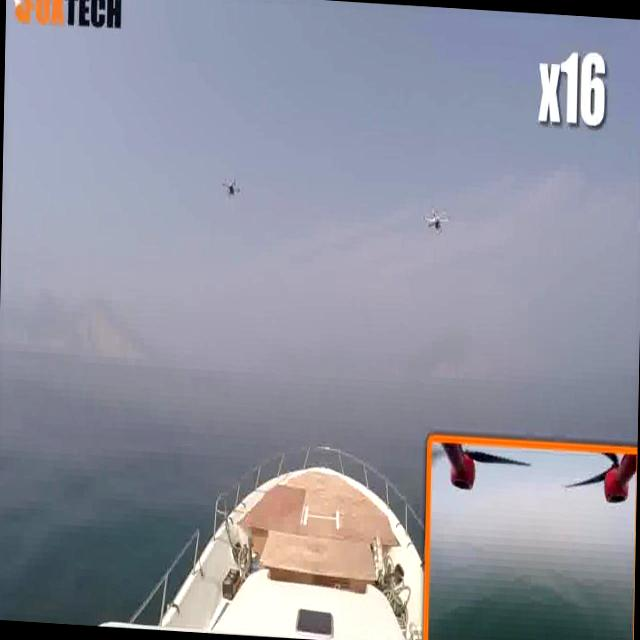drone: (423, 201, 453, 242), (219, 176, 240, 197)
